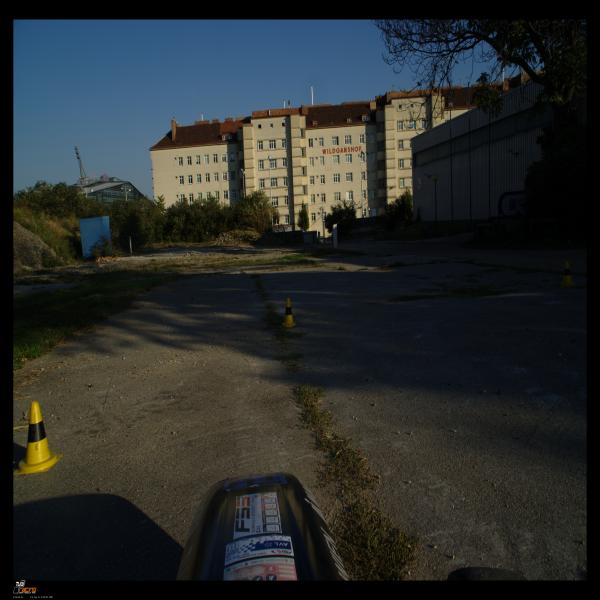yellow_cone: (13, 401, 63, 475), (280, 298, 298, 328)
